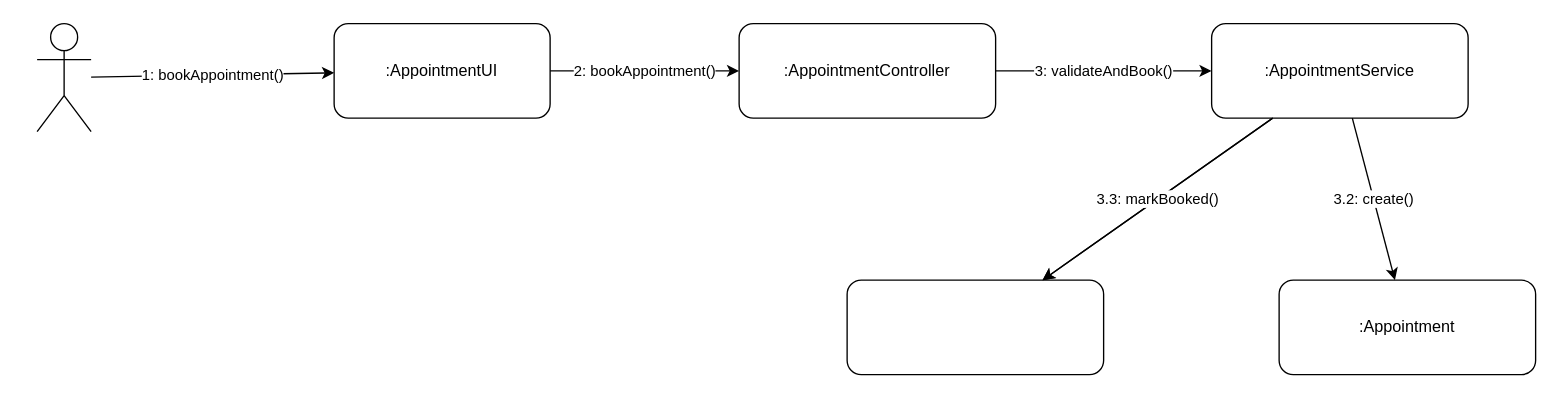
This 1559x398 diagram has some shape labels left out. The shapes that lost their labels are listed below. From the top down, each one's centre as x and y in pixels, then its label:
At point (63, 77): ":Bệnh nhân".
At point (975, 327): ":TimeSlot".
